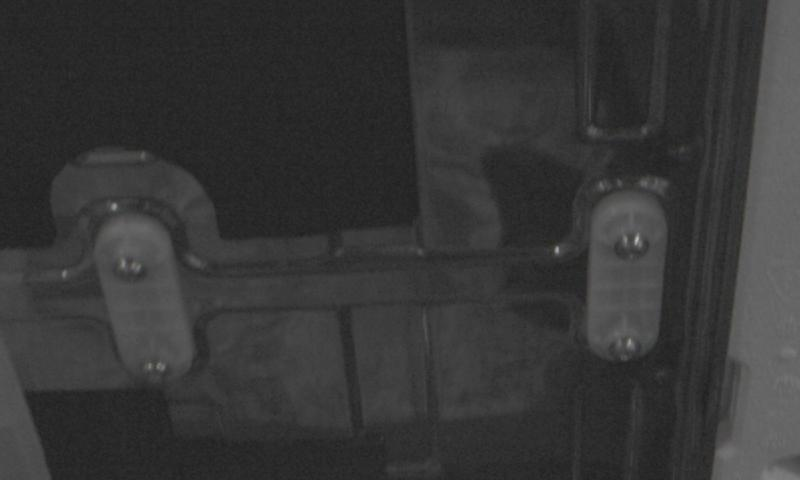vida-ok: (613, 221, 656, 266), (110, 249, 150, 294), (136, 350, 178, 390), (608, 330, 648, 368)
